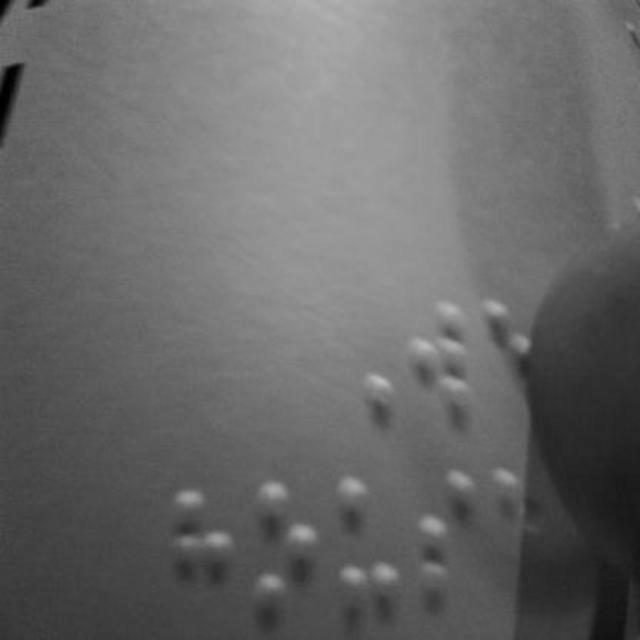braiile: (167, 482, 239, 630), (332, 472, 404, 618), (414, 466, 482, 616), (494, 469, 560, 621), (252, 478, 318, 626), (410, 293, 474, 423)
